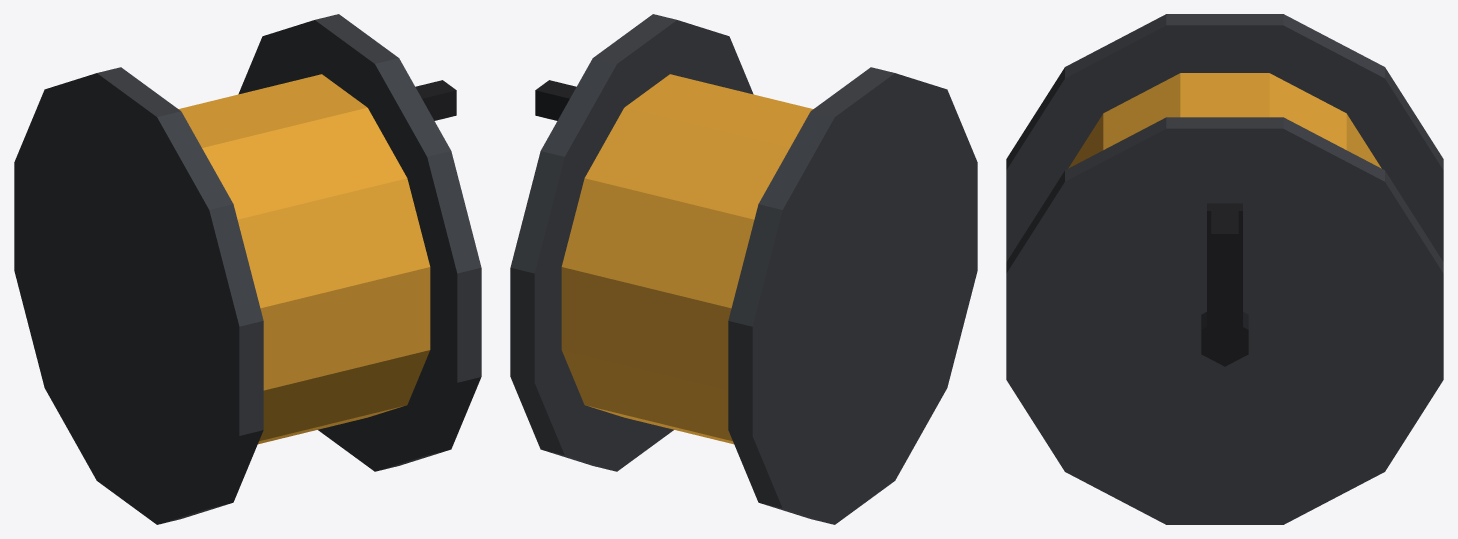
Rendered from dc_cable_reel.glb.
3 views of the same model, side by side, from view 1: azimuth 30°, elevation 25°; view 2: azimuth 150°, elevation 25°; view 3: azimuth 270°, elevation 25° (orthographic). The views are drawn at different scales.
Visible parts, largest first — view 1: dc_cable_reel; view 2: dc_cable_reel; view 3: dc_cable_reel.
Part boxes in pixels (left/top/right/bottom): dc_cable_reel: left=14, top=14, right=481, bottom=524; dc_cable_reel: left=510, top=14, right=977, bottom=524; dc_cable_reel: left=1006, top=14, right=1443, bottom=524.
Size of what is drawn, in the model's own units: 0.4 by 0.483 by 0.483.
